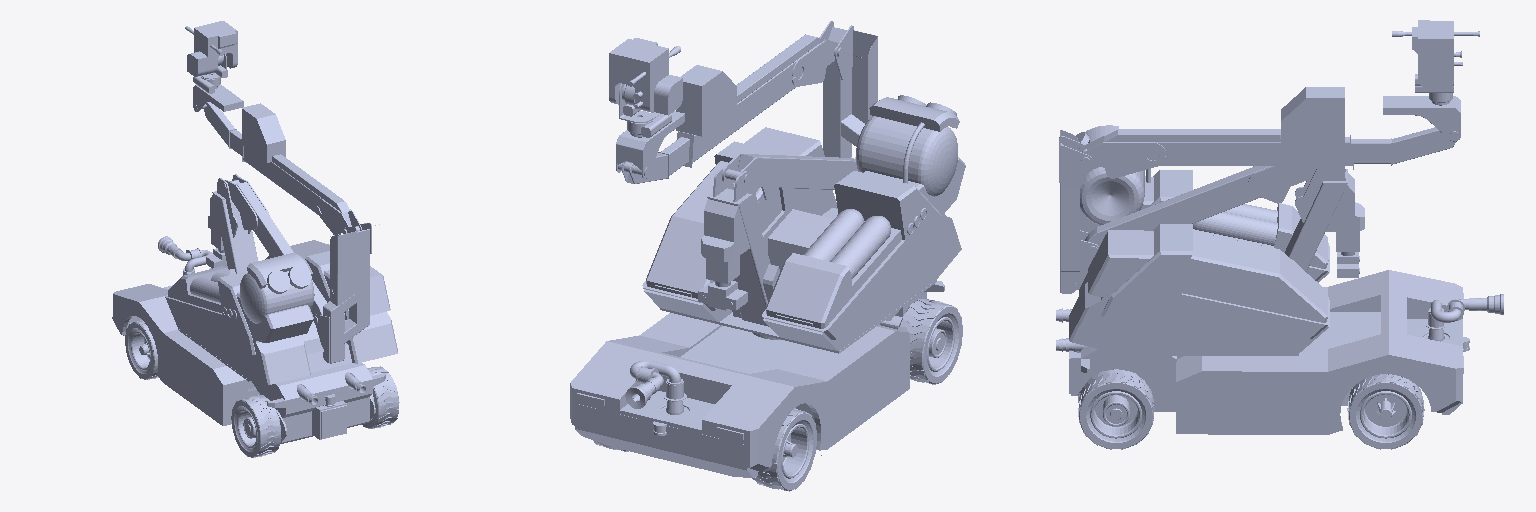
robot.urdf — fg100:
<?xml version="1.0" encoding="utf-8"?>
<!-- This URDF was automatically created by SolidWorks to URDF Exporter! Originally created by [author] ([email redacted]) 
     Commit Version: 1.6.0-1-g15f4949  Build Version: 1.6.7594.29634
     For more information, please see http://wiki.ros.org/sw_urdf_exporter -->
<robot
  name="fg100">
  <link
    name="base_link">
    <inertial>
      <origin
        xyz="0.014314 -0.19331 0.97813"
        rpy="0 0 0" />
      <mass
        value="1.6109" />
      <inertia
        ixx="1.6193"
        ixy="-0.037377"
        ixz="-0.021821"
        iyy="0.26694"
        iyz="-0.57749"
        izz="1.376" />
    </inertial>
    <visual>
      <origin
        xyz="0 0 0"
        rpy="0 0 0" />
      <geometry>
        <mesh
          filename="package://fg100/meshes/base_link.STL" />
      </geometry>
      <material
        name="">
        <color
          rgba="0.79216 0.81961 0.93333 1" />
      </material>
    </visual>
    <collision>
      <origin
        xyz="0 0 0"
        rpy="0 0 0" />
      <geometry>
        <mesh
          filename="package://fg100/meshes/base_link.STL" />
      </geometry>
    </collision>
  </link>
  <link
    name="link1">
    <inertial>
      <origin
        xyz="0.014314 -0.19331 0.97813"
        rpy="0 0 0" />
      <mass
        value="1.6109" />
      <inertia
        ixx="1.6193"
        ixy="-0.037377"
        ixz="-0.021821"
        iyy="0.26694"
        iyz="-0.57749"
        izz="1.376" />
    </inertial>
    <visual>
      <origin
        xyz="0 0 0"
        rpy="0 0 0" />
      <geometry>
        <mesh
          filename="package://fg100/meshes/link1.STL" />
      </geometry>
      <material
        name="">
        <color
          rgba="0.79216 0.81961 0.93333 1" />
      </material>
    </visual>
    <collision>
      <origin
        xyz="0 0 0"
        rpy="0 0 0" />
      <geometry>
        <mesh
          filename="package://fg100/meshes/link1.STL" />
      </geometry>
    </collision>
  </link>
  <joint
    name="joint1"
    type="revolute">
    <origin
      xyz="0 0 0"
      rpy="0 0 0" />
    <parent
      link="base_link" />
    <child
      link="link1" />
    <axis
      xyz="0 0 1" />
    <limit
      lower="-1.570796327"
      upper="1.570796327"
      effort="150"
      velocity="3.15" />
  </joint>
  <link
    name="link2">
    <inertial>
      <origin
        xyz="0 0 0"
        rpy="0 0 0" />
      <mass
        value="0.75927" />
      <inertia
        ixx="0.00045876"
        ixy="-5.1006E-36"
        ixz="-4.702E-36"
        iyy="0.0027603"
        iyz="-1.752E-36"
        izz="0.0027603" />
    </inertial>
    <visual>
      <origin
        xyz="0 0 0"
        rpy="0 0 0" />
      <geometry>
        <mesh
          filename="package://fg100/meshes/link2.STL" />
      </geometry>
      <material
        name="">
        <color
          rgba="0.79216 0.81961 0.93333 1" />
      </material>
    </visual>
    <collision>
      <origin
        xyz="0 0 0"
        rpy="0 0 0" />
      <geometry>
        <mesh
          filename="package://fg100/meshes/link2.STL" />
      </geometry>
    </collision>
  </link>
  <joint
    name="joint2"
    type="revolute">
    <origin
      xyz="0 0.59534 1.2791"
      rpy="0 0 0" />
    <parent
      link="link1" />
    <child
      link="link2" />
    <axis
      xyz="-1 0 0" />
    <limit
      lower="-0.401425728"
      upper="1.055226066"
      effort="150"
      velocity="3.15" />
  </joint>
  <link
    name="link3">
    <inertial>
      <origin
        xyz="-1.966E-17 0 0"
        rpy="0 0 0" />
      <mass
        value="0.77447" />
      <inertia
        ixx="0.0004773"
        ixy="-5.2544E-36"
        ixz="-9.404E-36"
        iyy="0.0028202"
        iyz="-1.8229E-36"
        izz="0.0028202" />
    </inertial>
    <visual>
      <origin
        xyz="0 0 0"
        rpy="0 0 0" />
      <geometry>
        <mesh
          filename="package://fg100/meshes/link3.STL" />
      </geometry>
      <material
        name="">
        <color
          rgba="0.79216 0.81961 0.93333 1" />
      </material>
    </visual>
    <collision>
      <origin
        xyz="0 0 0"
        rpy="0 0 0" />
      <geometry>
        <mesh
          filename="package://fg100/meshes/link3.STL" />
      </geometry>
    </collision>
  </link>
  <joint
    name="joint3"
    type="revolute">
    <origin
      xyz="0 -1.7232 -0.68814"
      rpy="0 0 0" />
    <parent
      link="link2" />
    <child
      link="link3" />
    <axis
      xyz="-1 0 0" />
    <limit
      lower="-0.401425728"
      upper="1.055226066"
      effort="150"
      velocity="3.15" />
  </joint>
  <link
    name="link4">
    <inertial>
      <origin
        xyz="5.55111512312578E-17 0 0"
        rpy="0 0 0" />
      <mass
        value="0.00178608338815952" />
      <inertia
        ixx="8.93041694079474E-10"
        ixy="-9.81151175959585E-40"
        ixz="0"
        iyy="4.81092108590083E-05"
        iyz="0"
        izz="4.81092108590083E-05" />
    </inertial>
    <visual>
      <origin
        xyz="0 0 0"
        rpy="0 0 0" />
      <geometry>
        <mesh
          filename="package://fg100/meshes/link4.STL" />
      </geometry>
      <material
        name="">
        <color
          rgba="0.792156862745098 0.819607843137255 0.933333333333333 1" />
      </material>
    </visual>
    <collision>
      <origin
        xyz="0 0 0"
        rpy="0 0 0" />
      <geometry>
        <mesh
          filename="package://fg100/meshes/link4.STL" />
      </geometry>
    </collision>
  </link>
  <joint
    name="joint4"
    type="revolute">
    <origin
      xyz="0.28426 -0.054542 0.86037"
      rpy="0 0 0" />
    <parent
      link="link3" />
    <child
      link="link4" />
    <axis
      xyz="1 0 0" />
    <limit
      lower="-0.401425728"
      upper="1.055226066"
      effort="150"
      velocity="3.15" />
  </joint>
  <link
    name="link5">
    <inertial>
      <origin
        xyz="-0.269949903702383 0.989116997337393 -0.473198780431863"
        rpy="0 0 0" />
      <mass
        value="1.61092133204133" />
      <inertia
        ixx="1.61928204684905"
        ixy="-0.0373768373568279"
        ixz="-0.0218207267756095"
        iyy="0.266941808795941"
        iyz="-0.577494131270086"
        izz="1.37604930088549" />
    </inertial>
    <visual>
      <origin
        xyz="0 0 0"
        rpy="0 0 0" />
      <geometry>
        <mesh
          filename="package://fg100/meshes/link5.STL" />
      </geometry>
      <material
        name="">
        <color
          rgba="0.792156862745098 0.819607843137255 0.933333333333333 1" />
      </material>
    </visual>
    <collision>
      <origin
        xyz="0 0 0"
        rpy="0 0 0" />
      <geometry>
        <mesh
          filename="package://fg100/meshes/link5.STL" />
      </geometry>
    </collision>
  </link>
  <joint
    name="joint5"
    type="prismatic">
    <origin
      xyz="0 0 0"
      rpy="0 0 0" />
    <parent
      link="link4" />
    <child
      link="link5" />
    <axis
      xyz="0 1 0" />
    <limit
      lower="0"
      upper="0.8"
      effort="150"
      velocity="3.15" />
  </joint>
  <link
    name="link6">
    <inertial>
      <origin
        xyz="-0.27047 -1.7473 -0.68369"
        rpy="0 0 0" />
      <mass
        value="1.6109" />
      <inertia
        ixx="1.6193"
        ixy="-0.037377"
        ixz="-0.021821"
        iyy="0.26694"
        iyz="-0.57749"
        izz="1.376" />
    </inertial>
    <visual>
      <origin
        xyz="0 0 0"
        rpy="0 0 0" />
      <geometry>
        <mesh
          filename="package://fg100/meshes/link6.STL" />
      </geometry>
      <material
        name="">
        <color
          rgba="0.79216 0.81961 0.93333 1" />
      </material>
    </visual>
    <collision>
      <origin
        xyz="0 0 0"
        rpy="0 0 0" />
      <geometry>
        <mesh
          filename="package://fg100/meshes/link6.STL" />
      </geometry>
    </collision>
  </link>
  <joint
    name="joint6"
    type="revolute">
    <origin
      xyz="0.00052145 2.7364 0.21049"
      rpy="0 0 0" />
    <parent
      link="link5" />
    <child
      link="link6" />
    <axis
      xyz="1 0 0" />
    <limit
      lower="-0.33"
      upper="0.33"
      effort="150"
      velocity="3.15" />
  </joint>
  <link
    name="link7">
    <inertial>
      <origin
        xyz="-0.24249 -1.6482 -0.91408"
        rpy="0 0 0" />
      <mass
        value="1.6109" />
      <inertia
        ixx="1.6193"
        ixy="-0.037377"
        ixz="-0.021821"
        iyy="0.26694"
        iyz="-0.57749"
        izz="1.376" />
    </inertial>
    <visual>
      <origin
        xyz="0 0 0"
        rpy="0 0 0" />
      <geometry>
        <mesh
          filename="package://fg100/meshes/link7.STL" />
      </geometry>
      <material
        name="">
        <color
          rgba="0.79216 0.81961 0.93333 1" />
      </material>
    </visual>
    <collision>
      <origin
        xyz="0 0 0"
        rpy="0 0 0" />
      <geometry>
        <mesh
          filename="package://fg100/meshes/link7.STL" />
      </geometry>
    </collision>
  </link>
  <joint
    name="joint7"
    type="revolute">
    <origin
      xyz="-0.02798 -0.09913 0.23038"
      rpy="0 0 0" />
    <parent
      link="link6" />
    <child
      link="link7" />
    <axis
      xyz="0 0 1" />
    <limit
      lower="-1.570796327"
      upper="1.570796327"
      effort="150"
      velocity="3.15" />
  </joint>
  <link
    name="link8">
    <inertial>
      <origin
        xyz="-0.34138 -1.6483 -1.2067"
        rpy="0 0 0" />
      <mass
        value="1.6109" />
      <inertia
        ixx="1.6193"
        ixy="-0.037377"
        ixz="-0.021821"
        iyy="0.26694"
        iyz="-0.57749"
        izz="1.376" />
    </inertial>
    <visual>
      <origin
        xyz="0 0 0"
        rpy="0 0 0" />
      <geometry>
        <mesh
          filename="package://fg100/meshes/link8.STL" />
      </geometry>
      <material
        name="">
        <color
          rgba="0.79216 0.81961 0.93333 1" />
      </material>
    </visual>
    <collision>
      <origin
        xyz="0 0 0"
        rpy="0 0 0" />
      <geometry>
        <mesh
          filename="package://fg100/meshes/link8.STL" />
      </geometry>
    </collision>
  </link>
  <joint
    name="joint8"
    type="fixed">
    <origin
      xyz="0.098886 0.0001969 0.29263"
      rpy="0 0 0" />
    <parent
      link="link7" />
    <child
      link="link8" />
    <axis
      xyz="0 0 0" />
    <limit
      lower="0"
      upper="0"
      effort="150"
      velocity="3.15" />
  </joint>
</robot>

--- Facts derived from the render (not from the file) ---
Views: 3 orthographic renders of the robot side by side, from view 1: azimuth 30°, elevation 25°; view 2: azimuth 150°, elevation 25°; view 3: azimuth 270°, elevation 25°.
Model fg100 with 9 links and 8 joints (6 revolute, 1 prismatic, 1 fixed), rooted at base_link, posed all joints at 0.
Links seen in each view (by area): view 1: link1, base_link, link3, link4, link2, link8, link6, link5; view 2: link1, base_link, link4, link3, link8, link2, link6, link5, link7; view 3: base_link, link1, link4, link2, link3, link8, link5, link6.
Link boxes in pixels (<box>): link1: <box>165,174,397,384</box>; base_link: <box>112,236,399,457</box>; link3: <box>314,223,371,363</box>; link4: <box>241,103,379,236</box>; link2: <box>222,177,326,320</box>; link8: <box>185,21,237,77</box>; link6: <box>193,84,243,111</box>; link5: <box>204,102,242,155</box>; link1: <box>642,95,965,353</box>; base_link: <box>570,281,962,491</box>; link4: <box>676,34,861,167</box>; link3: <box>819,21,877,455</box>; link8: <box>609,38,682,116</box>; link2: <box>722,154,857,200</box>; link6: <box>616,111,684,178</box>; link5: <box>622,137,689,183</box>; link7: <box>619,83,671,137</box>; base_link: <box>1056,270,1503,449</box>; link1: <box>1069,125,1364,355</box>; link4: <box>1078,87,1353,178</box>; link2: <box>1085,166,1329,246</box>; link3: <box>1059,130,1098,293</box>; link8: <box>1392,20,1479,87</box>; link5: <box>1351,127,1456,165</box>; link6: <box>1383,96,1460,141</box>.
Bounding box of the posed robot: 1.52 × 3.32 × 3.88 m (x, y, z).
9 mesh visuals loaded from 9 distinct referenced files (9 binary STL).